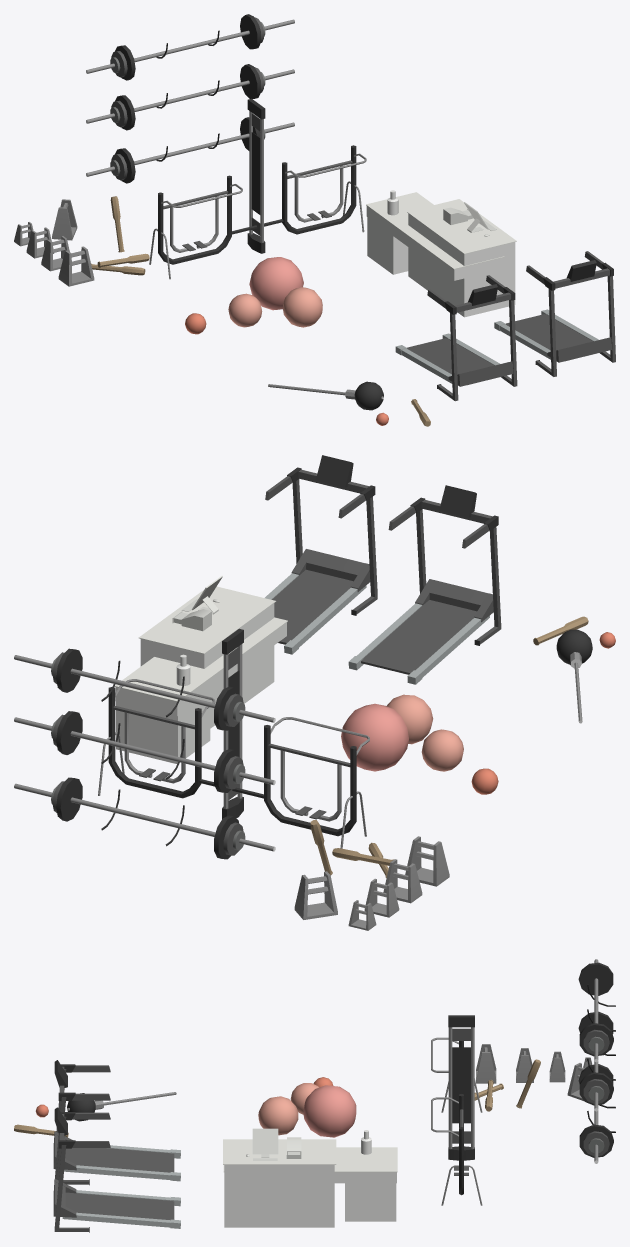
The picture shows the model from 3 angles, top to bottom: view 1: azimuth 30°, elevation 25°; view 2: azimuth 150°, elevation 25°; view 3: azimuth 270°, elevation 25°; orthographic projection. The views are drawn at different scales.
Visible parts, largest first — view 1: 3, 4, 1, 2; view 2: 3, 4, 1, 2; view 3: 3, 4, 1, 2.
Part boxes in pixels (<box>): 3: <box>185,190,516,334</box>; 4: <box>268,251,615,426</box>; 1: <box>14,14,294,286</box>; 2: <box>149,98,366,279</box>; 3: <box>114,575,498,794</box>; 4: <box>265,455,615,723</box>; 1: <box>14,648,449,930</box>; 2: <box>98,628,369,848</box>; 3: <box>223,1077,397,1227</box>; 4: <box>14,1060,180,1232</box>; 1: <box>474,959,615,1163</box>; 2: <box>431,1015,482,1205</box>.
Size of the model in its own units: 471 by 228 by 746.
